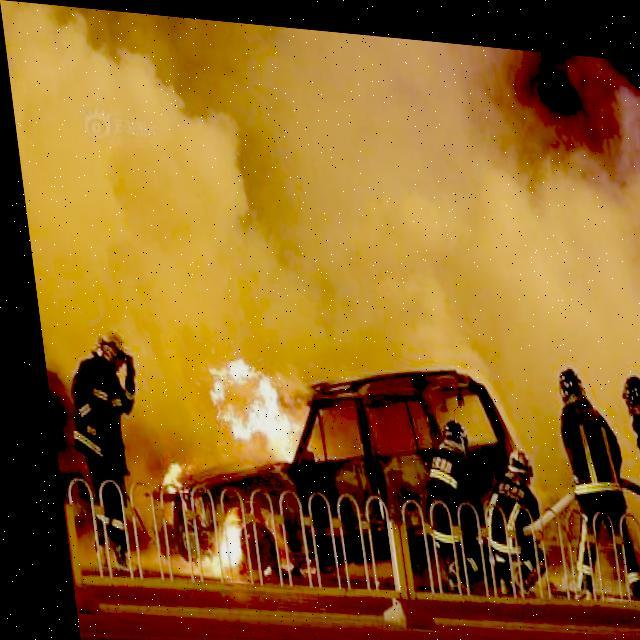Fire: (193, 349, 300, 458), (190, 503, 240, 578), (150, 458, 177, 504)
